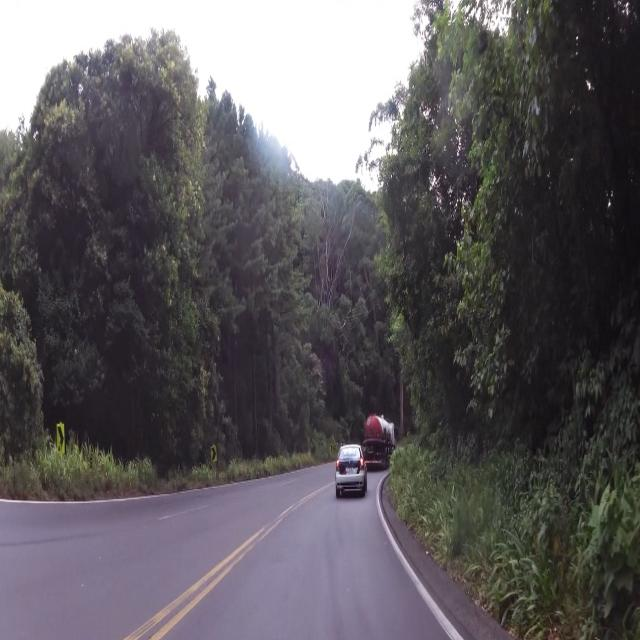Del: (52, 422, 68, 454)
